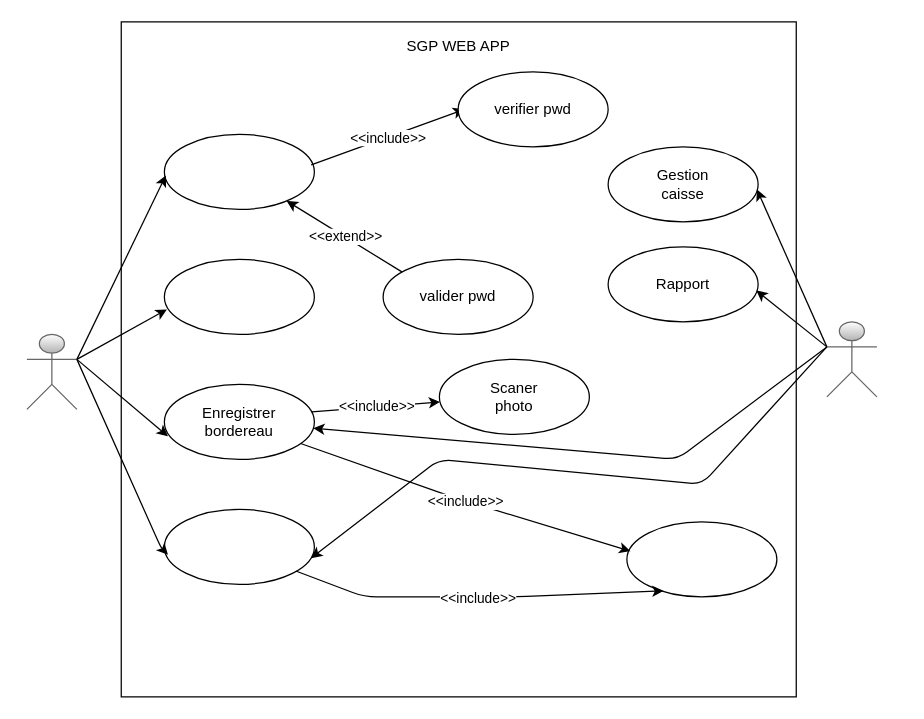
Some shapes in this 924 by 719 pixel diagram are drawn without their labels. Each missing label, with the box of its shape:
connexion: (163, 258, 314, 334)
Inscription: (163, 133, 314, 209)
Notification: (163, 508, 314, 584)
verifier bordereau: (626, 521, 777, 597)
